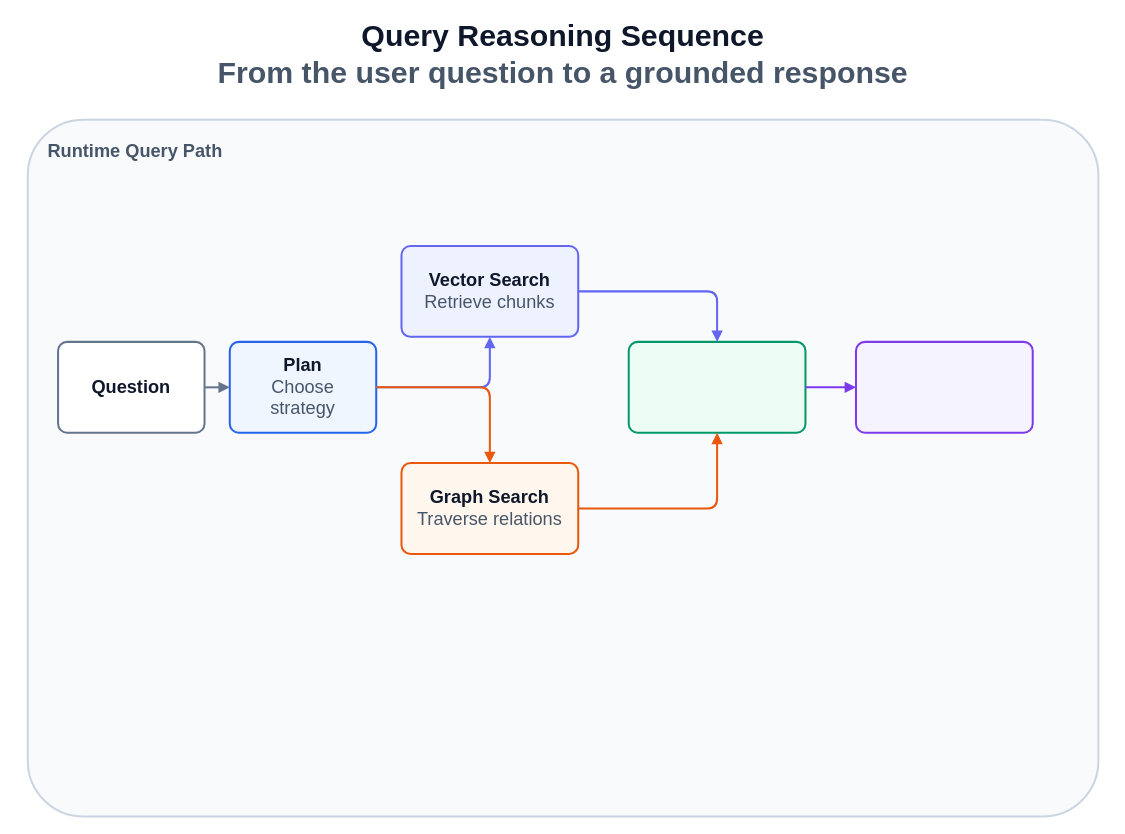
The diagram is 1125 pixels wide and 834 high, and some of its shapes have lost their labels. The box of each missing label's shape, as (x1, y1, x2, y2) in pixels:
Fuse Evidence Rank and combine: (627, 340, 806, 433)
Generate Grounded synthesis: (854, 340, 1033, 433)
